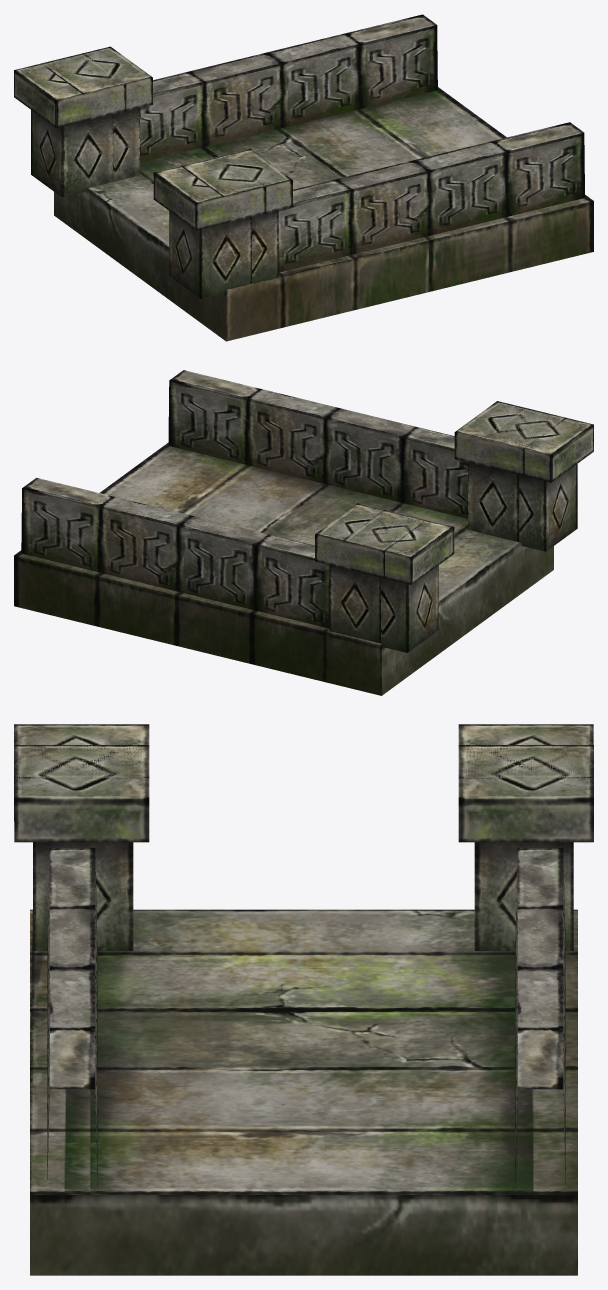
The model's file is STR_BridgeStoneE.FBX.
3 views of the same model, one above another, from view 1: azimuth 30°, elevation 25°; view 2: azimuth 150°, elevation 25°; view 3: azimuth 270°, elevation 25° (orthographic). The views are drawn at different scales.
Visible parts, largest first — view 1: STR_BridgeStoneE01, STR_BridgeStoneE02; view 2: STR_BridgeStoneE01, STR_BridgeStoneE02; view 3: STR_BridgeStoneE01, STR_BridgeStoneE02.
Boxes of the visible parts, x1,y1,x2,y2 form: STR_BridgeStoneE01: (41, 14, 593, 341); STR_BridgeStoneE02: (14, 53, 266, 298); STR_BridgeStoneE01: (14, 370, 566, 695); STR_BridgeStoneE02: (342, 407, 593, 652); STR_BridgeStoneE01: (14, 745, 593, 1275); STR_BridgeStoneE02: (14, 724, 593, 821).
Bounding box in the file's own units: 717 × 255 × 562.
